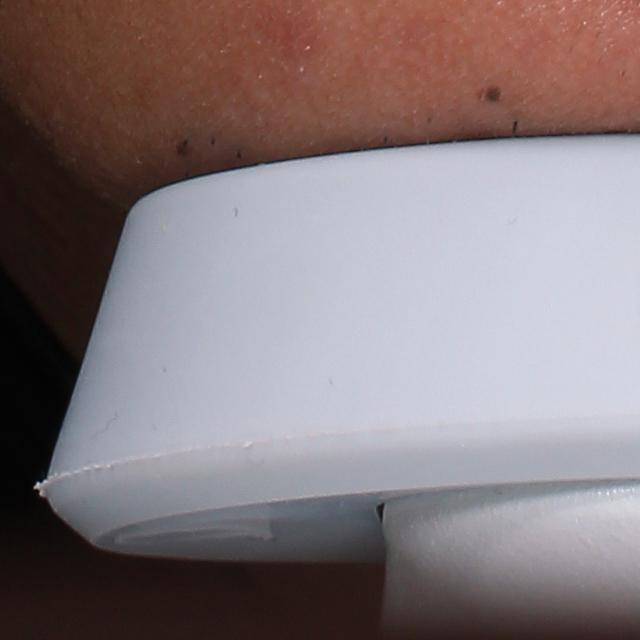nevus: (480, 77, 507, 106), (173, 133, 195, 158)
